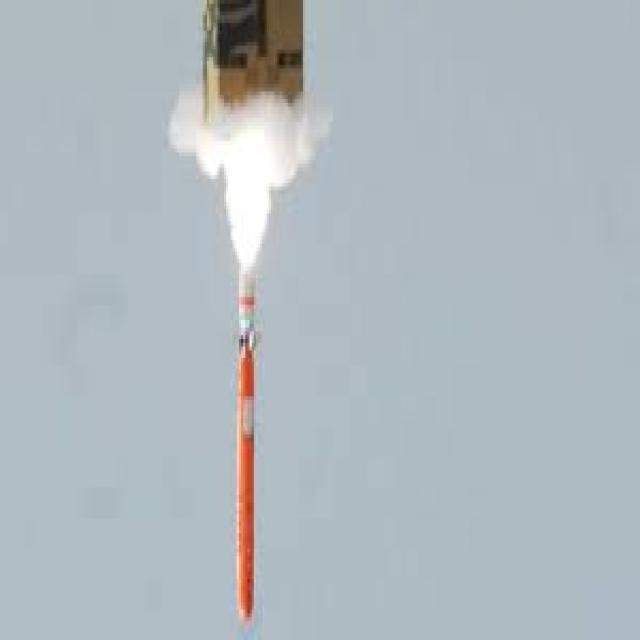Missile: (234, 306, 257, 627)
